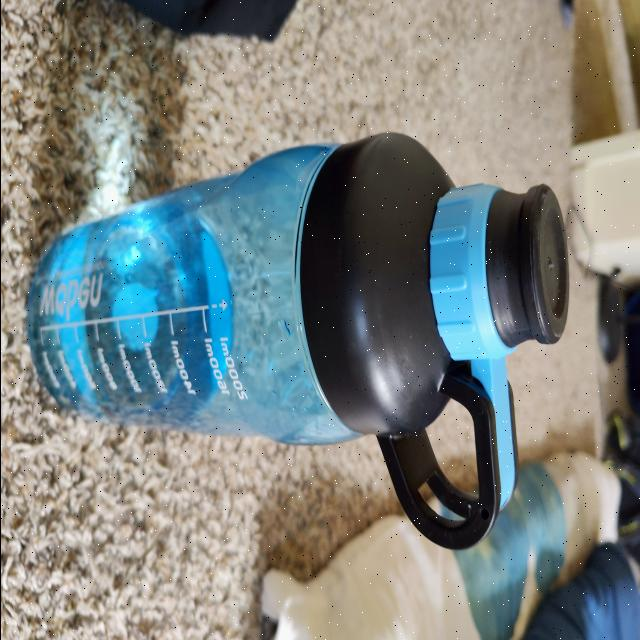bottle: (59, 128, 556, 554)
